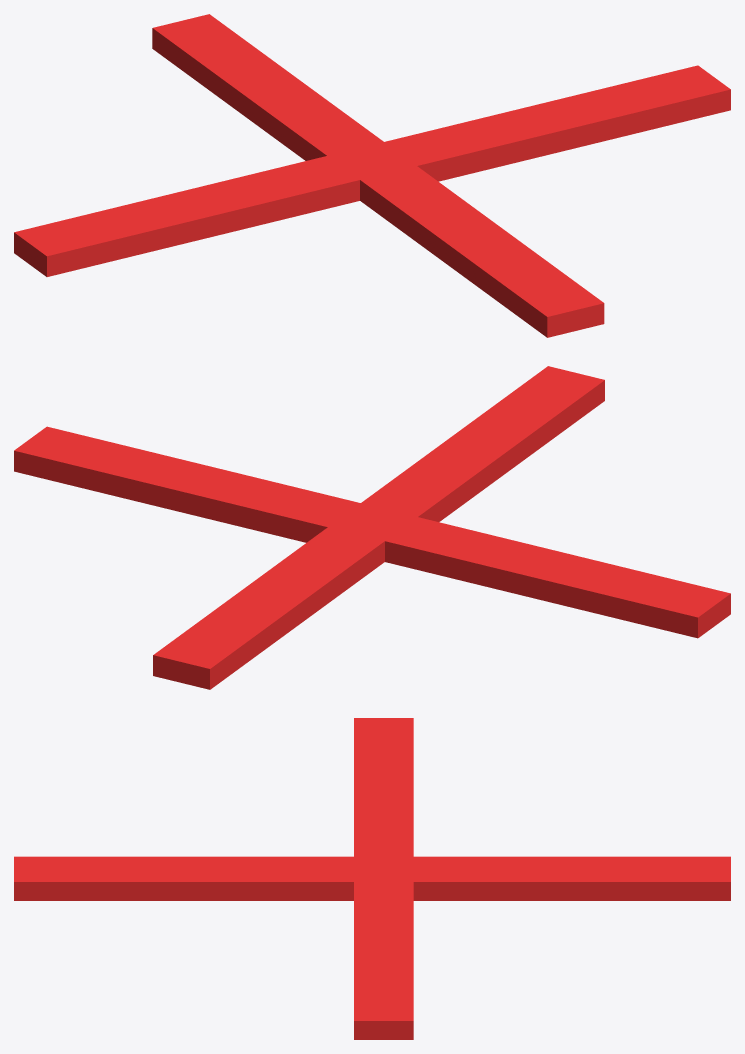
Rendered from cross_red.dae.
The picture shows the model from 3 angles, top to bottom: view 1: azimuth 30°, elevation 25°; view 2: azimuth 150°, elevation 25°; view 3: azimuth 270°, elevation 25°; orthographic projection. The views are drawn at different scales.
Visible parts, largest first — view 1: SketchUp; view 2: SketchUp; view 3: SketchUp.
Boxes of the visible parts, bbox=[...] form: SketchUp: bbox=[14, 14, 730, 337]; SketchUp: bbox=[14, 366, 730, 689]; SketchUp: bbox=[14, 718, 730, 1039].
Bounding box in the file's own units: 24 × 24 × 0.7.
